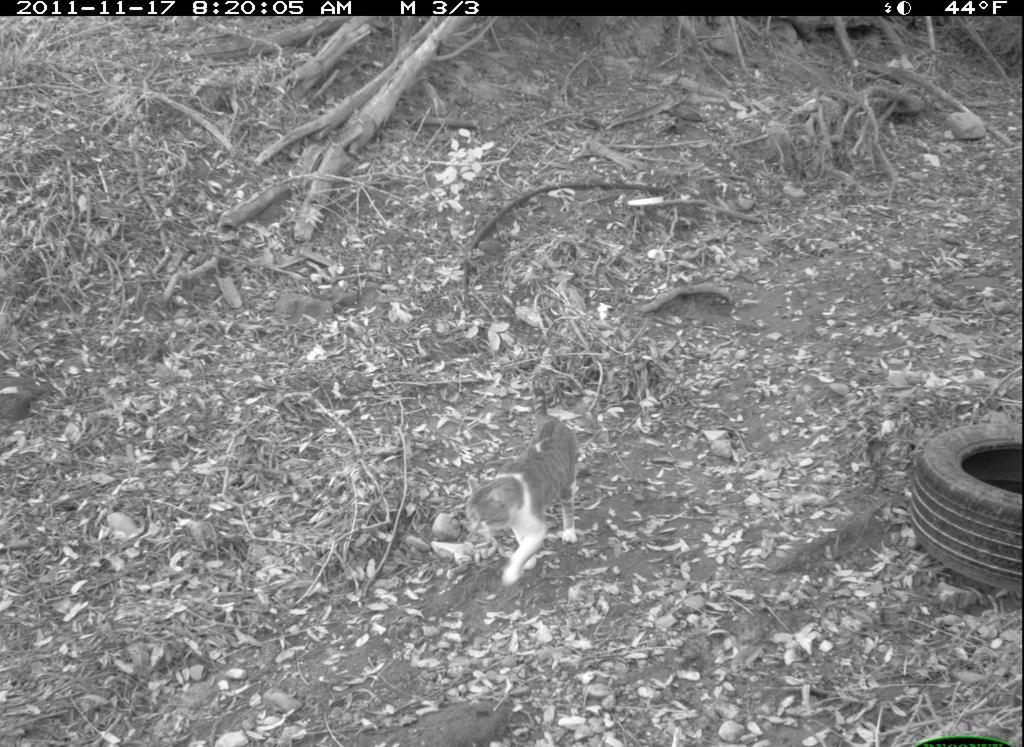cat: (455, 379, 583, 589)
